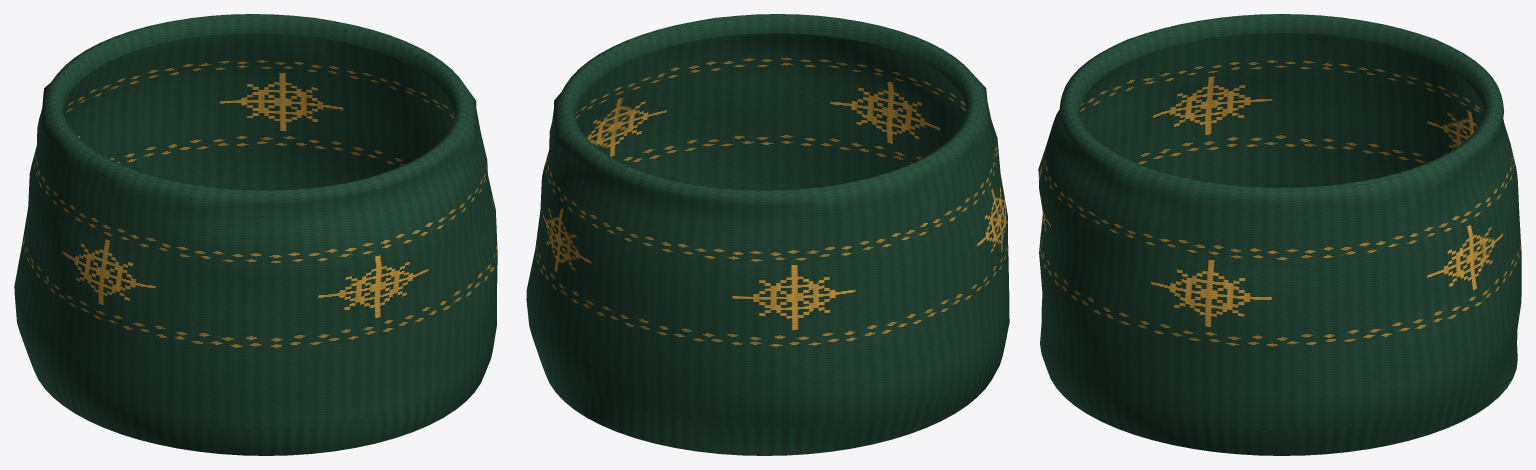
Rendered from sweater-crouch.fbx.
3 views of the same model, side by side, from view 1: azimuth 30°, elevation 25°; view 2: azimuth 150°, elevation 25°; view 3: azimuth 270°, elevation 25° (orthographic).
Visible parts, largest first — view 1: sweater-crouch; view 2: sweater-crouch; view 3: sweater-crouch.
Boxes of the visible parts, box(x1,y1,x2,y2) form: sweater-crouch: box(14, 14, 497, 455); sweater-crouch: box(526, 14, 1009, 455); sweater-crouch: box(1038, 14, 1521, 455).
Size of the model in its own units: 63.58 by 37.7 by 63.88.
Materials: 1 (1 with a texture image).
